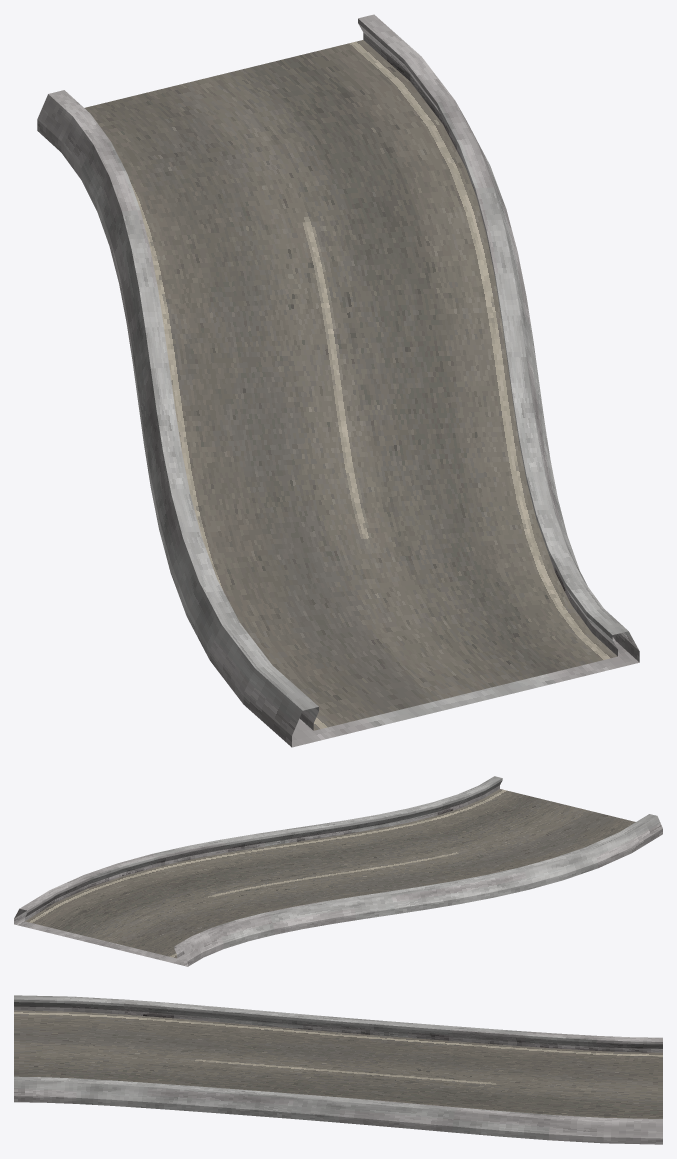
The model's file is chicane-right1x3.glb.
3 views of the same model, one above another, from view 1: azimuth 30°, elevation 25°; view 2: azimuth 150°, elevation 25°; view 3: azimuth 270°, elevation 25° (orthographic). The views are drawn at different scales.
Parts seen in each view (by area): view 1: road-Chicane-Flat-Flat-Up1-Right1-Size3; view 2: road-Chicane-Flat-Flat-Up1-Right1-Size3; view 3: road-Chicane-Flat-Flat-Up1-Right1-Size3.
Part boxes in pixels (x1,y1,x2,y2): road-Chicane-Flat-Flat-Up1-Right1-Size3: [37, 14, 639, 747]; road-Chicane-Flat-Flat-Up1-Right1-Size3: [14, 776, 662, 966]; road-Chicane-Flat-Flat-Up1-Right1-Size3: [14, 995, 662, 1144].
Size of the model in its own units: 2 by 0.3438 by 3.
Materials: 2 (2 with a texture image).
